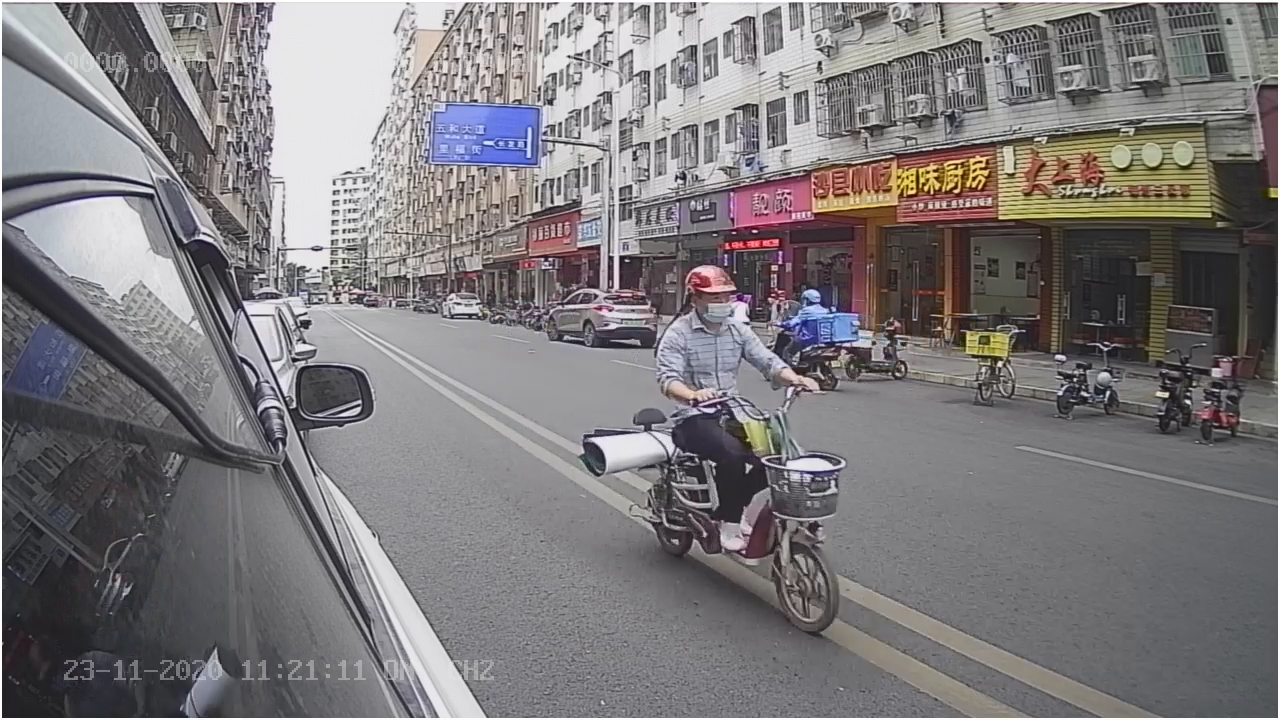person: (646, 259, 826, 397)
